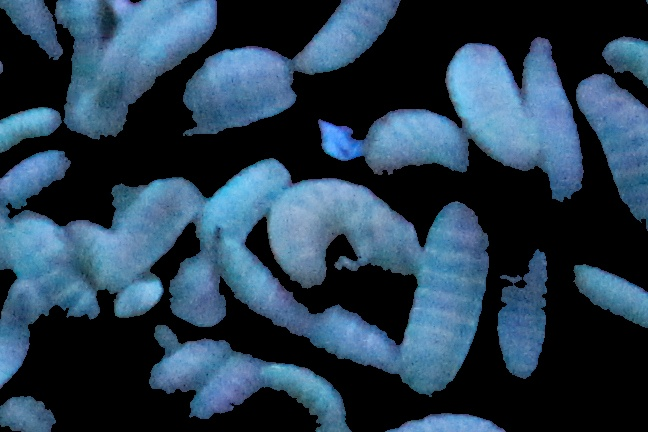larvae: (215, 244, 404, 371), (408, 204, 489, 402), (268, 176, 412, 276), (132, 48, 295, 136), (572, 60, 648, 215), (449, 43, 537, 172), (99, 176, 197, 289), (5, 214, 97, 329), (127, 1, 230, 98), (527, 32, 579, 200), (295, 1, 409, 74), (362, 106, 468, 176), (499, 233, 549, 376), (259, 363, 361, 432), (101, 1, 179, 74), (574, 261, 648, 331), (146, 335, 231, 392), (1, 279, 43, 390), (1, 1, 63, 72), (190, 357, 267, 414), (50, 1, 121, 52), (1, 149, 73, 198), (1, 98, 68, 146), (597, 34, 648, 76)
